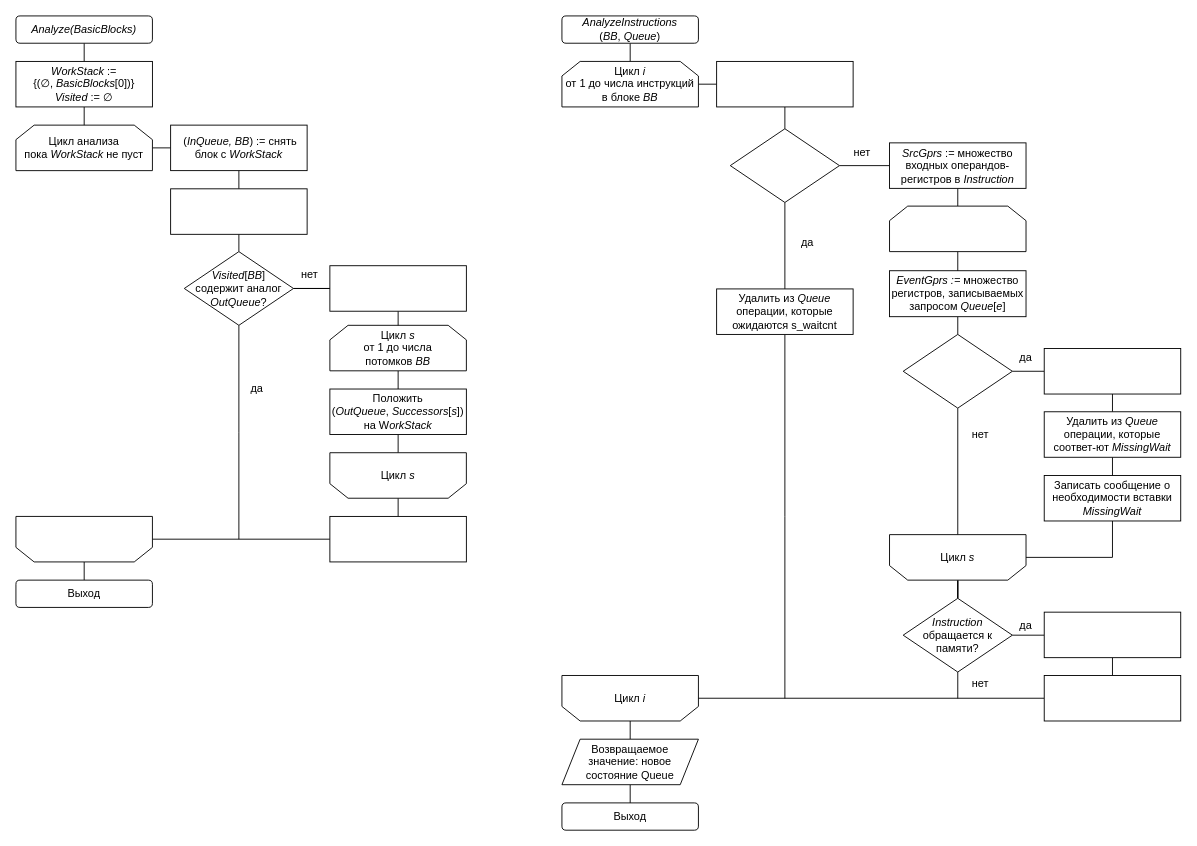
This 1197x846 diagram has some shape labels left out. Each missing label, with the centre of its shape:
"( PC , Instruction ) := адрес и содержание i -й инструкции" goes at (x=784, y=84).
"DstGprs := множество регистров, записываемых Instruction" goes at (x=1112, y=634).
"Instruction = s_waitcnt?" goes at (x=784, y=165).
"MissingWait := выражение ожидания, необходимое для запроса" goes at (x=1112, y=371).
"OutQueue := AnalyzeInstructions ( BB, InQueue )" goes at (x=238, y=211).
"SrcGprs пересекается с EventGprs ?" goes at (x=957, y=371).
"Successors := список потомков блока BB" goes at (x=397, y=288).
"Добавить тип запроса и DstGprs в Queue" goes at (x=1112, y=698).
"Положить OutQueue в Visited [ BB ]" goes at (x=397, y=539).
"Цикл e от 1 до числа запросов к памяти в Queue" goes at (x=957, y=228).
"Цикл анализа" goes at (x=83, y=539).
